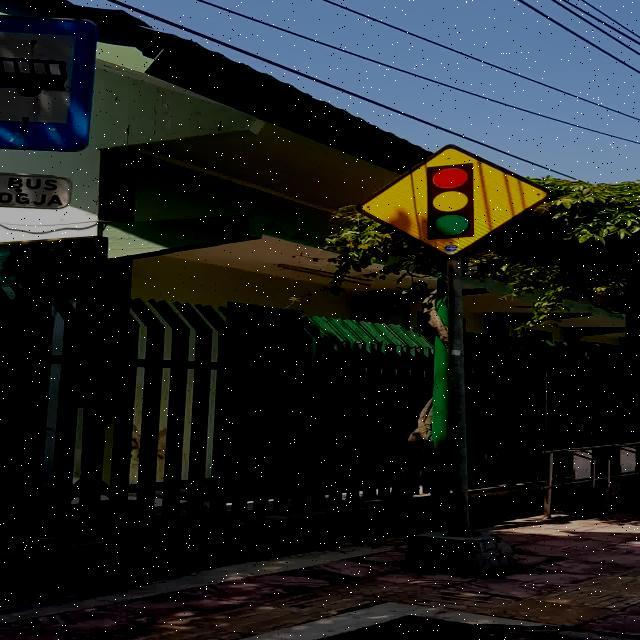Lampu Lalu Lintas: (357, 144, 556, 260)
